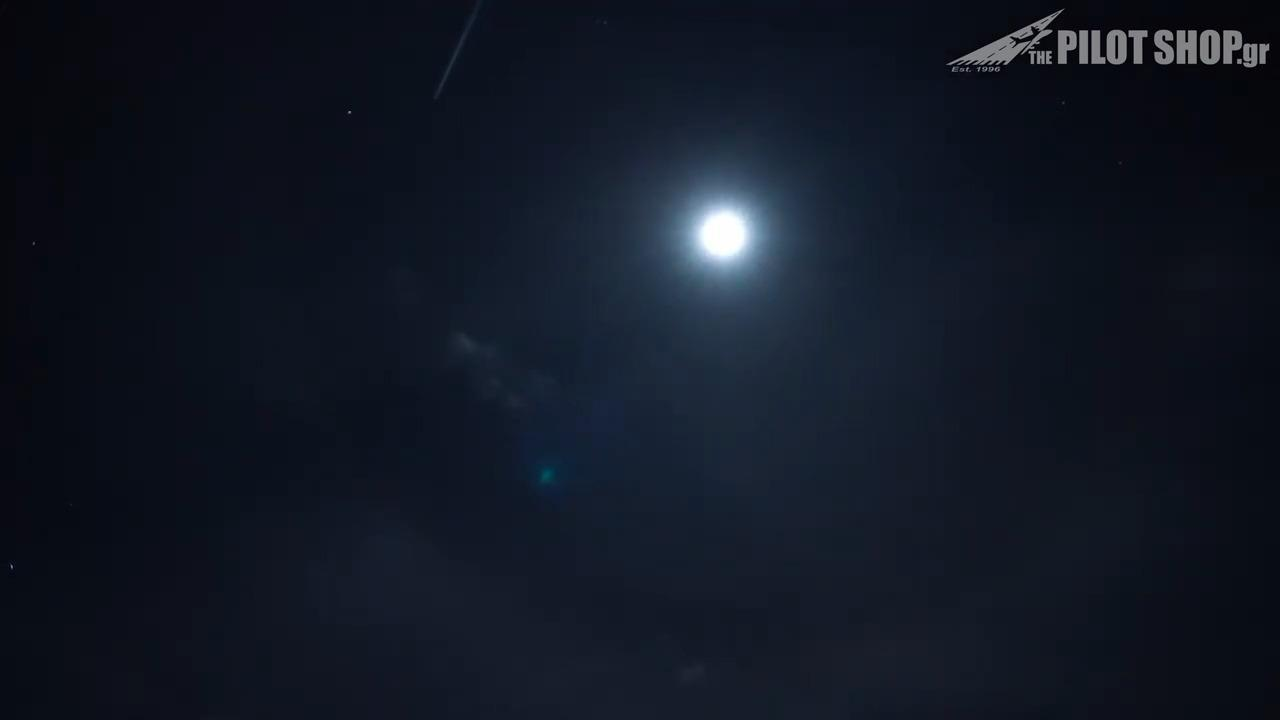Plane: (391, 3, 526, 109)
